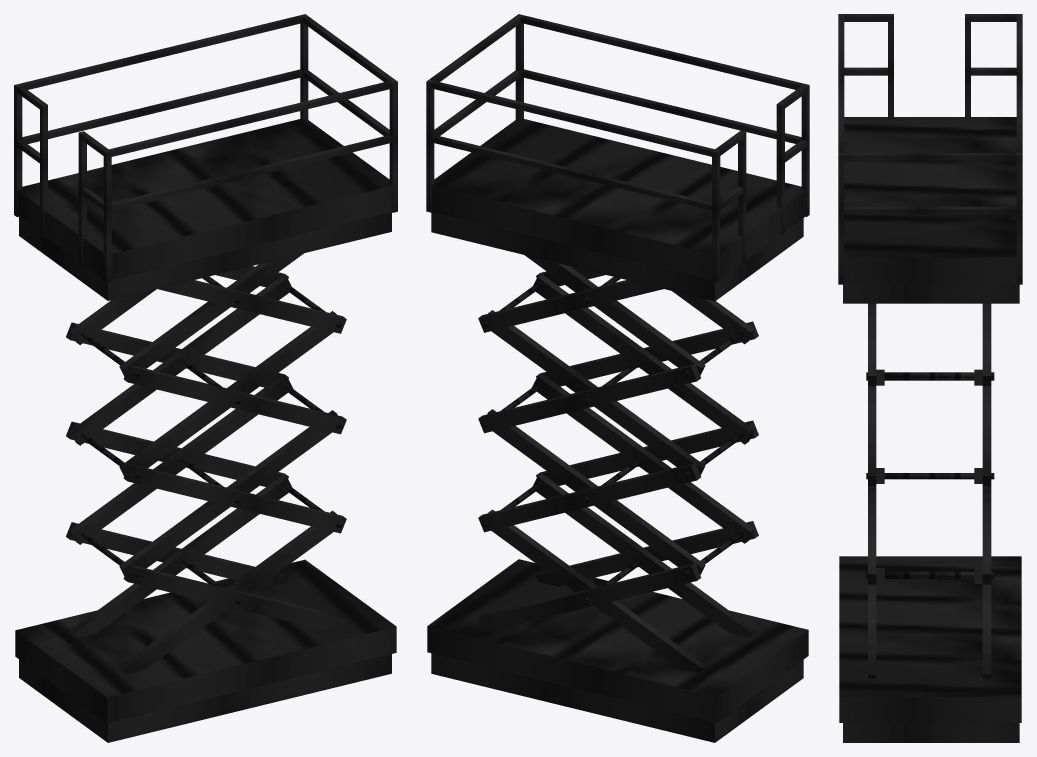
Rendered from Truss-01.obj.
3 renders of one model, left to right at view 1: azimuth 30°, elevation 25°; view 2: azimuth 150°, elevation 25°; view 3: azimuth 270°, elevation 25°, orthographic.
Visible parts, largest first — view 1: Cube_Cube.012; view 2: Cube_Cube.012; view 3: Cube_Cube.012.
Boxes of the visible parts, <box> form: Cube_Cube.012: <box>14,14,397,742</box>; Cube_Cube.012: <box>426,14,809,742</box>; Cube_Cube.012: <box>838,14,1022,742</box>.
Size of the model in its own units: 4.13 by 8.04 by 2.28.
